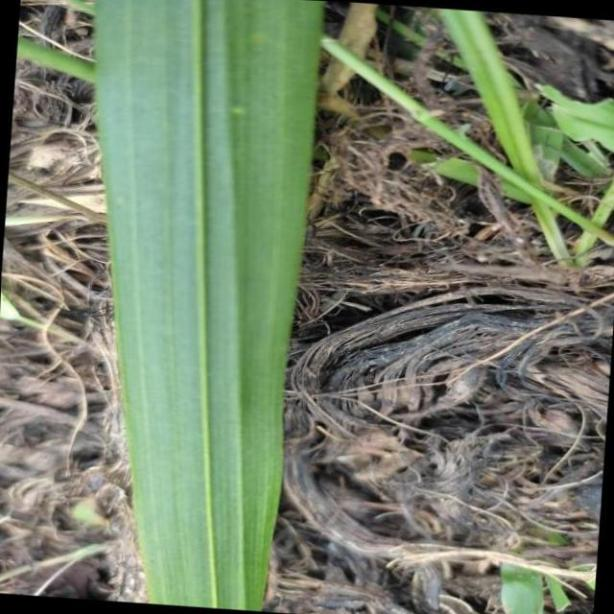Healthy: (93, 0, 321, 614)
